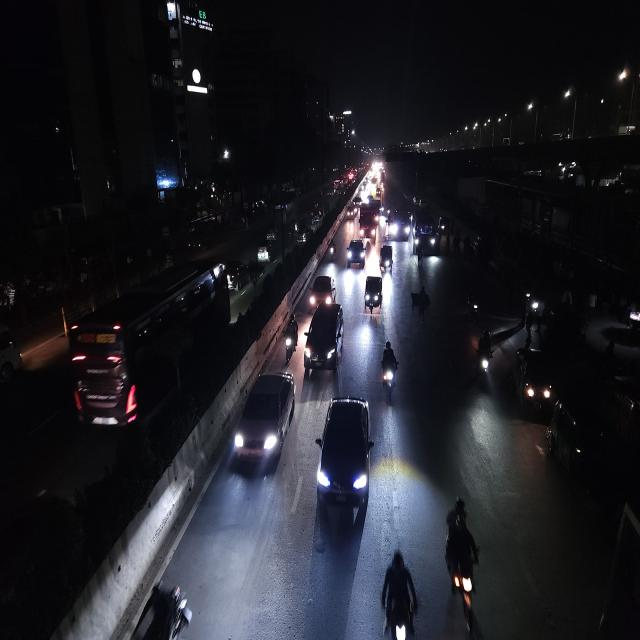bus: (67, 256, 229, 443), (412, 204, 438, 262), (391, 206, 412, 242)
car: (314, 390, 376, 527), (232, 366, 298, 477), (302, 300, 346, 379), (513, 344, 556, 419), (305, 272, 337, 310), (224, 257, 247, 296), (345, 234, 367, 270), (378, 241, 396, 277)
cng: (546, 394, 598, 486), (364, 270, 384, 318), (256, 235, 273, 269)
motorcycle: (440, 494, 486, 633), (378, 541, 420, 640), (472, 324, 494, 391), (379, 337, 401, 402), (281, 310, 299, 363), (464, 288, 484, 325), (327, 237, 339, 264)
rickshaw: (411, 284, 432, 325)
truck: (358, 203, 379, 243)
